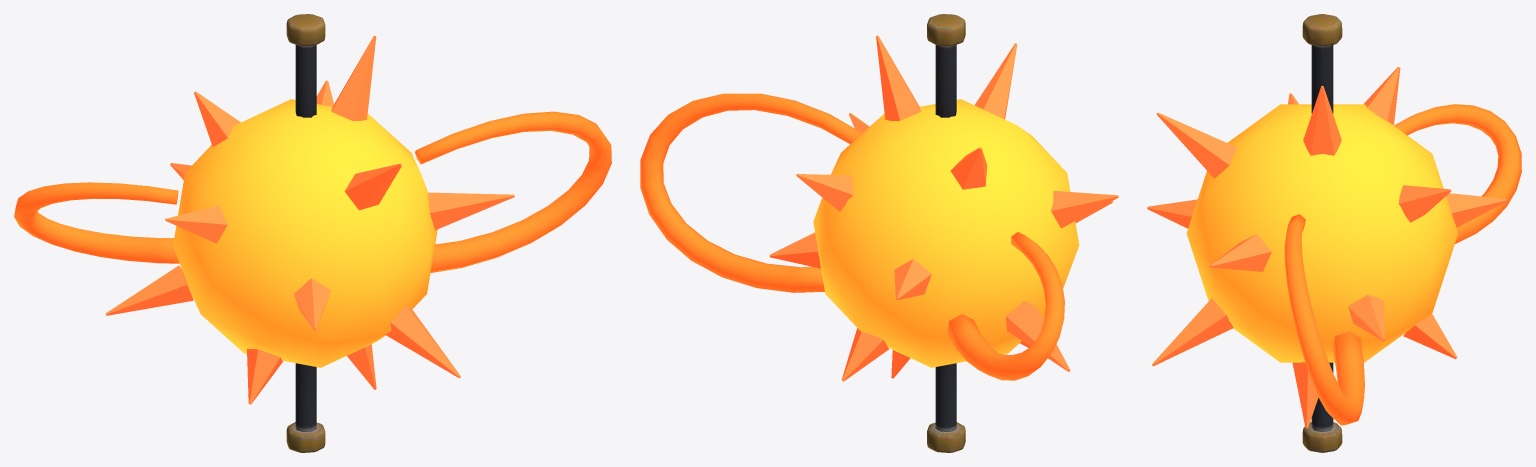
File: badge_sf_core.glb
The picture shows the model from 3 angles, left to right: view 1: azimuth 30°, elevation 25°; view 2: azimuth 150°, elevation 25°; view 3: azimuth 270°, elevation 25°; orthographic projection.
Visible parts, largest first — view 1: badge_sf_core_glow, badge_sf_core; view 2: badge_sf_core_glow, badge_sf_core; view 3: badge_sf_core_glow, badge_sf_core.
Boxes of the visible parts, x1,y1,x2,y2 form: badge_sf_core_glow: [14, 35, 611, 404]; badge_sf_core: [286, 14, 325, 452]; badge_sf_core_glow: [640, 35, 1118, 381]; badge_sf_core: [927, 14, 965, 452]; badge_sf_core_glow: [1147, 67, 1521, 428]; badge_sf_core: [1302, 14, 1342, 452].
Size of the model in its own units: 0.8568 by 0.69 by 0.5515.
Materials: 5 (1 with a texture image).
